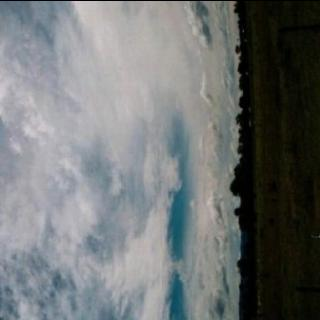Cirrostratus: (0, 0, 246, 320)
